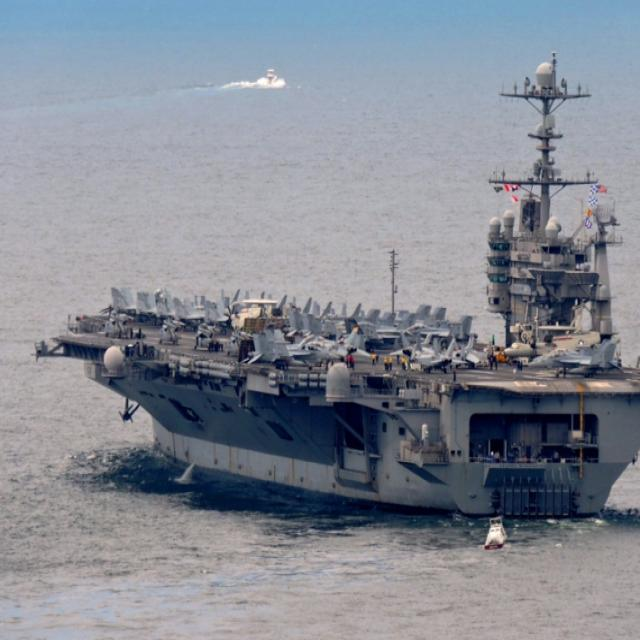Portanaves: (27, 45, 640, 546)
